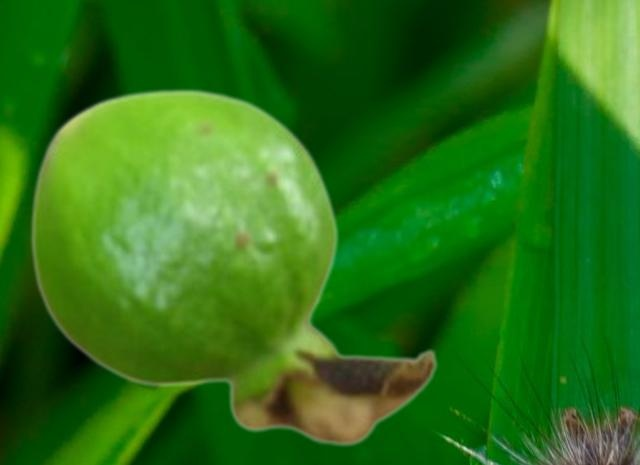guava: (29, 87, 438, 447)
